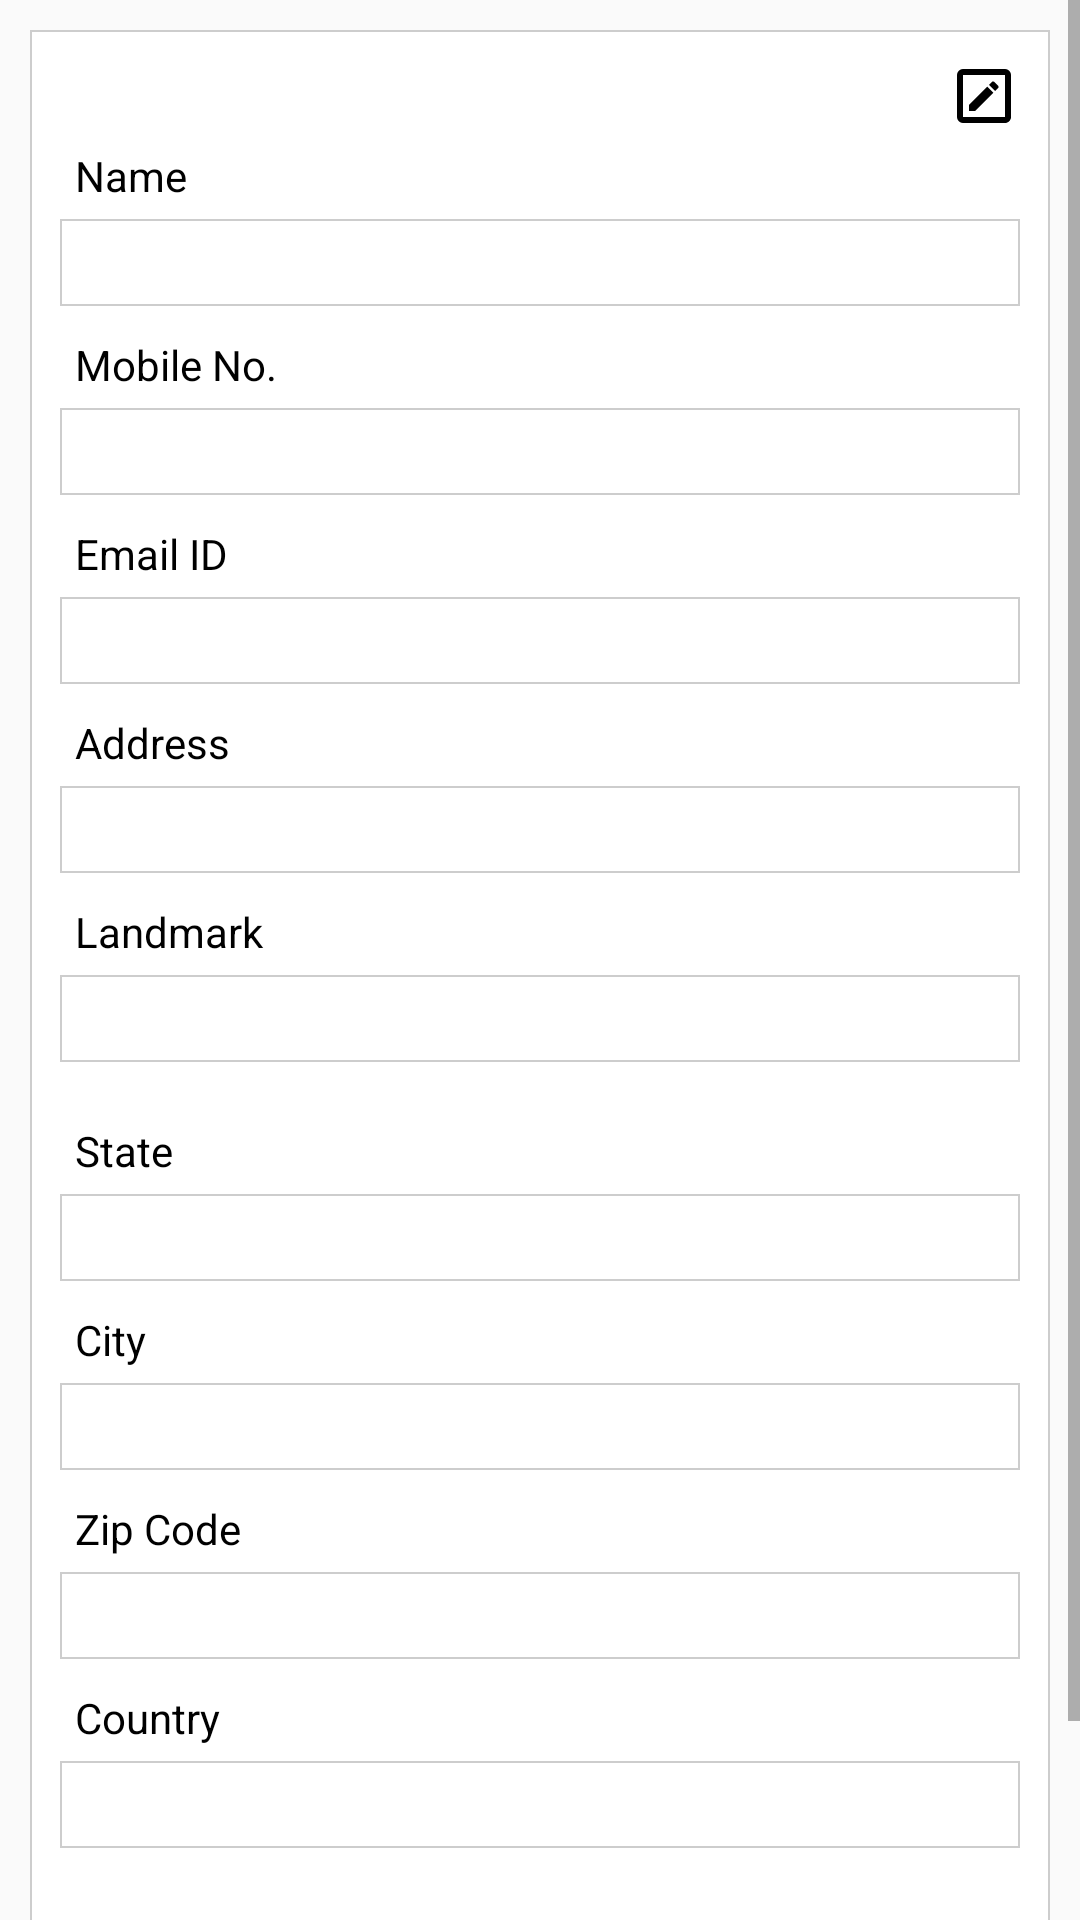

Icon bounding boxes for this 1080px×1920px phone screenshot, format box(x1, y1, x2, y2):
profileedit: box(957, 69, 1011, 123)
